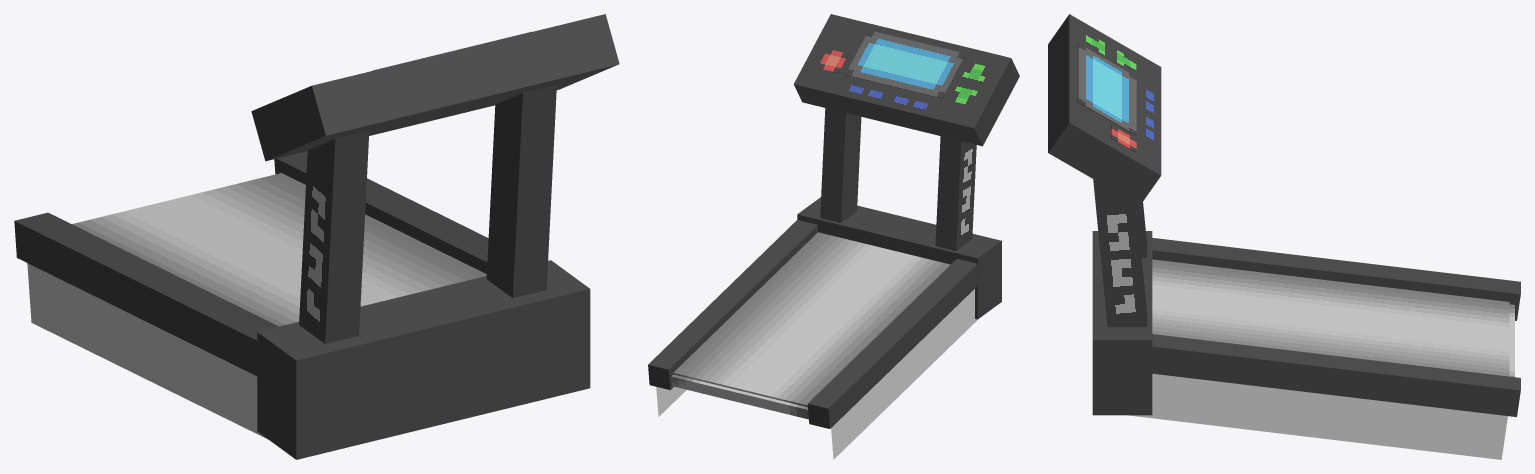
File: Treadmill.gltf
The picture shows the model from 3 angles, left to right: view 1: azimuth 30°, elevation 25°; view 2: azimuth 150°, elevation 25°; view 3: azimuth 270°, elevation 25°; orthographic projection. The views are drawn at different scales.
Parts seen in each view (by area): view 1: cube (×7), plane; view 2: cube (×11), plane (×2); view 3: cube (×8), plane.
Boxes of the visible parts, x1=… form: cube (×7): x1=14, y1=14, x2=619, y2=459; plane: x1=27, y1=263, x2=268, y2=439; cube (×11): x1=648, y1=14, x2=1019, y2=428; plane (×2): x1=656, y1=289, x2=978, y2=459; cube (×8): x1=1048, y1=14, x2=1520, y2=416; plane: x1=1129, y1=373, x2=1507, y2=459.
Size of the model in its own units: 0.4064 by 0.5903 by 0.7463.
1 material, 1 textured.
